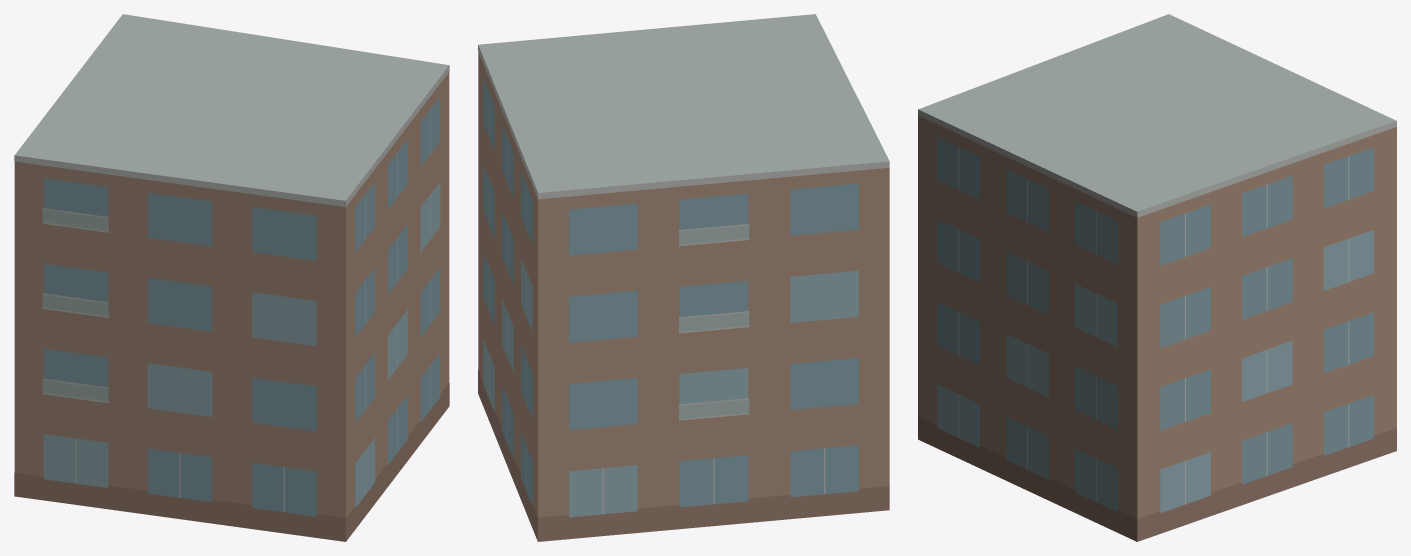
File: survey-upis-32898501.glb
3 renders of one model, left to right at view 1: azimuth 30°, elevation 25°; view 2: azimuth 150°, elevation 25°; view 3: azimuth 270°, elevation 25°, orthographic. The views are drawn at different scales.
Visible parts, largest first — view 1: survey-upis-32898501.tmp; view 2: survey-upis-32898501.tmp; view 3: survey-upis-32898501.tmp.
Part boxes in pixels (x1=…): survey-upis-32898501.tmp: x1=14, y1=14, x2=449, y2=541; survey-upis-32898501.tmp: x1=478, y1=14, x2=889, y2=541; survey-upis-32898501.tmp: x1=918, y1=14, x2=1396, y2=541.
Size of the model in its own units: 17.23 by 13.4 by 17.62.
